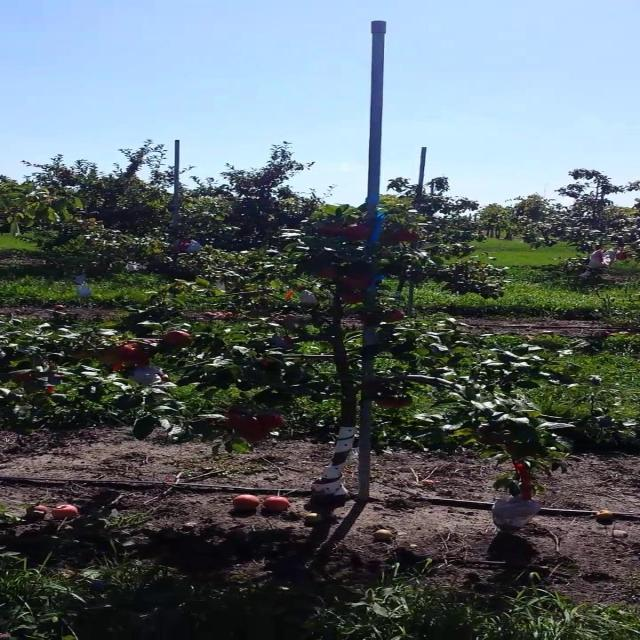apple: (163, 332, 192, 347), (241, 432, 270, 444), (234, 420, 265, 431), (241, 420, 267, 432), (227, 412, 244, 429), (348, 228, 372, 240), (348, 276, 372, 288), (340, 292, 363, 304), (262, 416, 284, 428), (99, 352, 121, 364), (483, 432, 505, 444), (13, 372, 34, 384), (120, 344, 142, 355), (127, 356, 149, 366), (319, 228, 343, 236), (319, 268, 336, 279), (404, 232, 420, 243), (134, 356, 149, 367), (376, 400, 395, 408), (390, 312, 405, 322), (77, 352, 92, 360), (397, 400, 412, 408), (49, 372, 64, 380), (262, 360, 277, 367), (113, 364, 124, 372), (511, 444, 519, 451), (285, 340, 295, 345), (399, 234, 404, 242), (49, 388, 57, 392)
